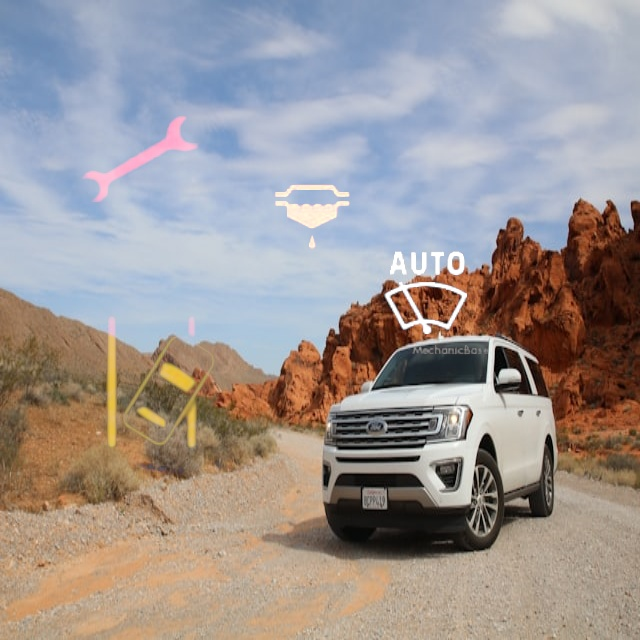symbol: (62, 287, 259, 484), (48, 67, 236, 255), (240, 145, 386, 291), (360, 227, 494, 361)
